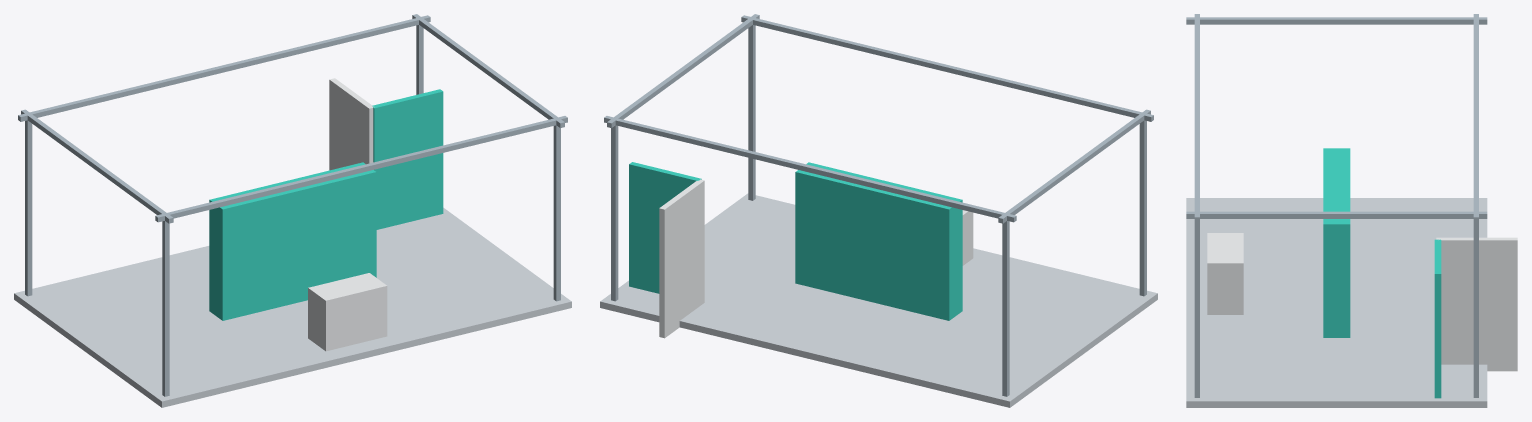
3 views of the same model, side by side, from view 1: azimuth 30°, elevation 25°; view 2: azimuth 150°, elevation 25°; view 3: azimuth 270°, elevation 25° (orthographic).
Visible parts, largest first — view 1: Exhibition Booth Concept; view 2: Exhibition Booth Concept; view 3: Exhibition Booth Concept.
Part boxes in pixels (x1=…): Exhibition Booth Concept: x1=14, y1=14, x2=571, y2=407; Exhibition Booth Concept: x1=600, y1=14, x2=1157, y2=407; Exhibition Booth Concept: x1=1186, y1=14, x2=1517, y2=407.
Size of the model in its own units: 8 by 3.49 by 5.51.
